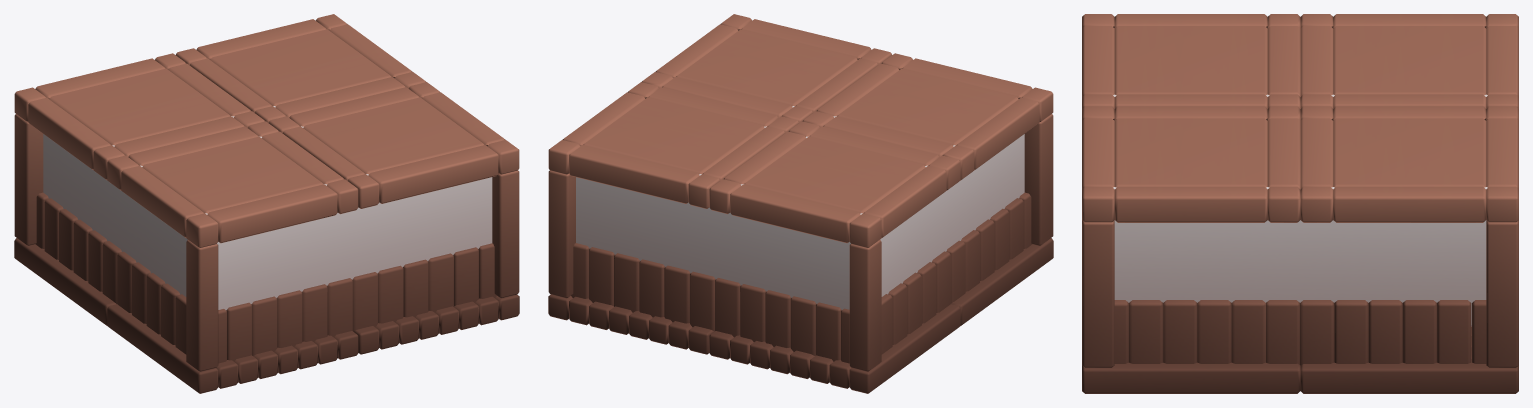
The model's file is SM_Wood_Body_02.fbx.
The picture shows the model from 3 angles, left to right: view 1: azimuth 30°, elevation 25°; view 2: azimuth 150°, elevation 25°; view 3: azimuth 270°, elevation 25°; orthographic projection. The views are drawn at different scales.
Visible parts, largest first — view 1: SM_Wood_Body_02; view 2: SM_Wood_Body_02; view 3: SM_Wood_Body_02.
Boxes of the visible parts, x1,y1,x2,y2 form: SM_Wood_Body_02: [14, 14, 519, 393]; SM_Wood_Body_02: [548, 14, 1053, 393]; SM_Wood_Body_02: [1082, 14, 1518, 393].
Size of the model in its own units: 2 by 0.9996 by 2.
